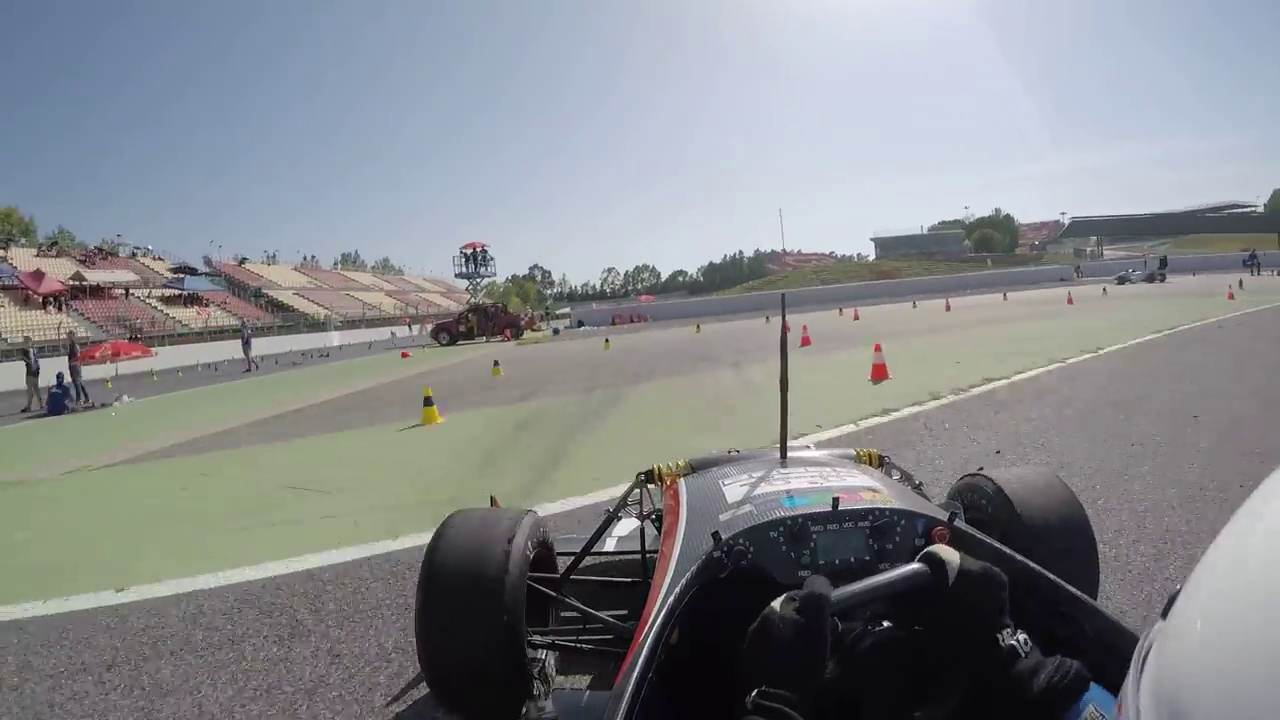Cone: (416, 386, 448, 429), (866, 340, 890, 382)
